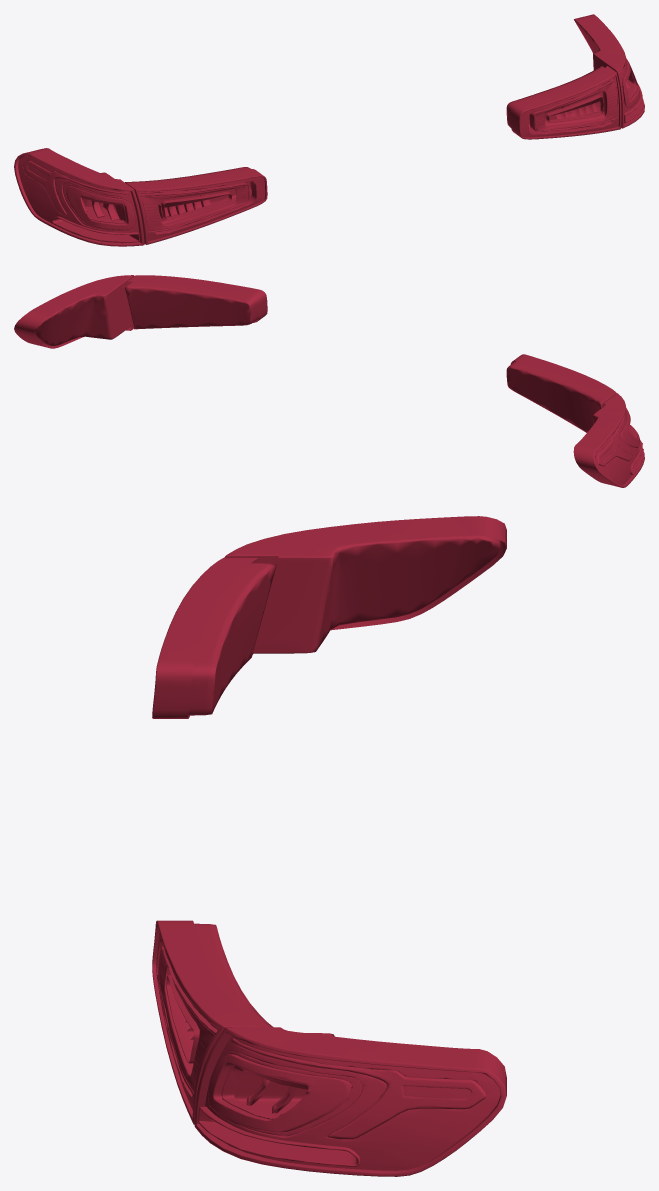
The model's file is Mercedes Benz GLS 580.010.glb.
The picture shows the model from 3 angles, top to bottom: view 1: azimuth 30°, elevation 25°; view 2: azimuth 150°, elevation 25°; view 3: azimuth 270°, elevation 25°; orthographic projection. The views are drawn at different scales.
Visible parts, largest first — view 1: Mercedes Benz GLS 580.010; view 2: Mercedes Benz GLS 580.010; view 3: Mercedes Benz GLS 580.010.
Part boxes in pixels (<box>): Mercedes Benz GLS 580.010: <box>14,14,644,246</box>; Mercedes Benz GLS 580.010: <box>14,275,644,487</box>; Mercedes Benz GLS 580.010: <box>152,516,506,1176</box>.
Size of the model in its own units: 1.68 by 0.1386 by 0.4345.
